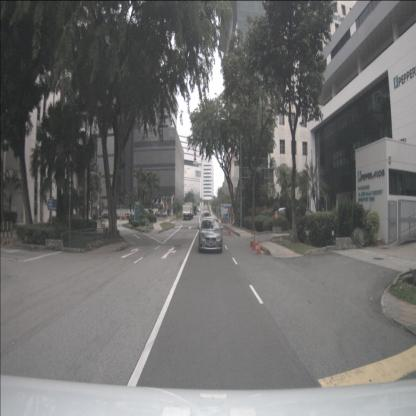cone: (248, 224, 255, 254), (257, 233, 263, 262), (251, 232, 257, 254), (228, 217, 233, 242)
